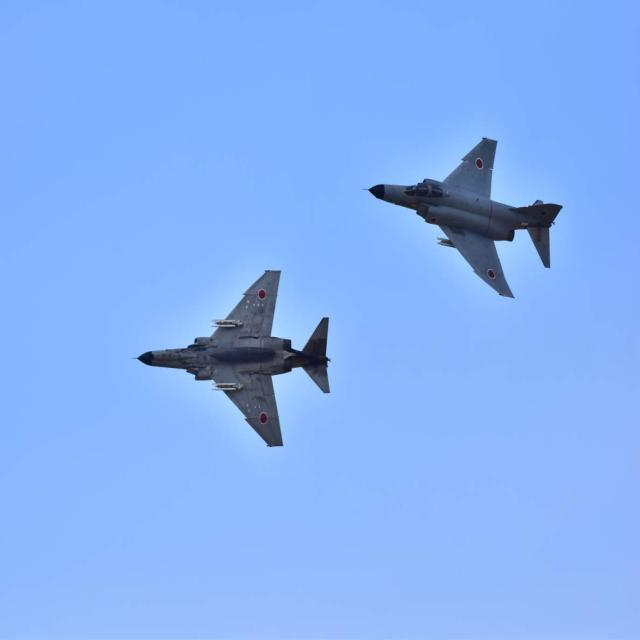MIL_Plane: (130, 269, 331, 448), (362, 136, 563, 300)
